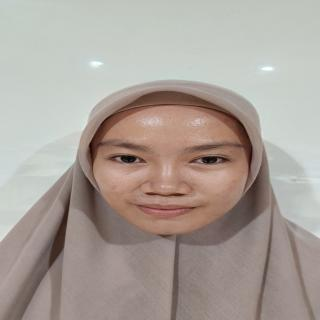Netral: (82, 95, 258, 232)
